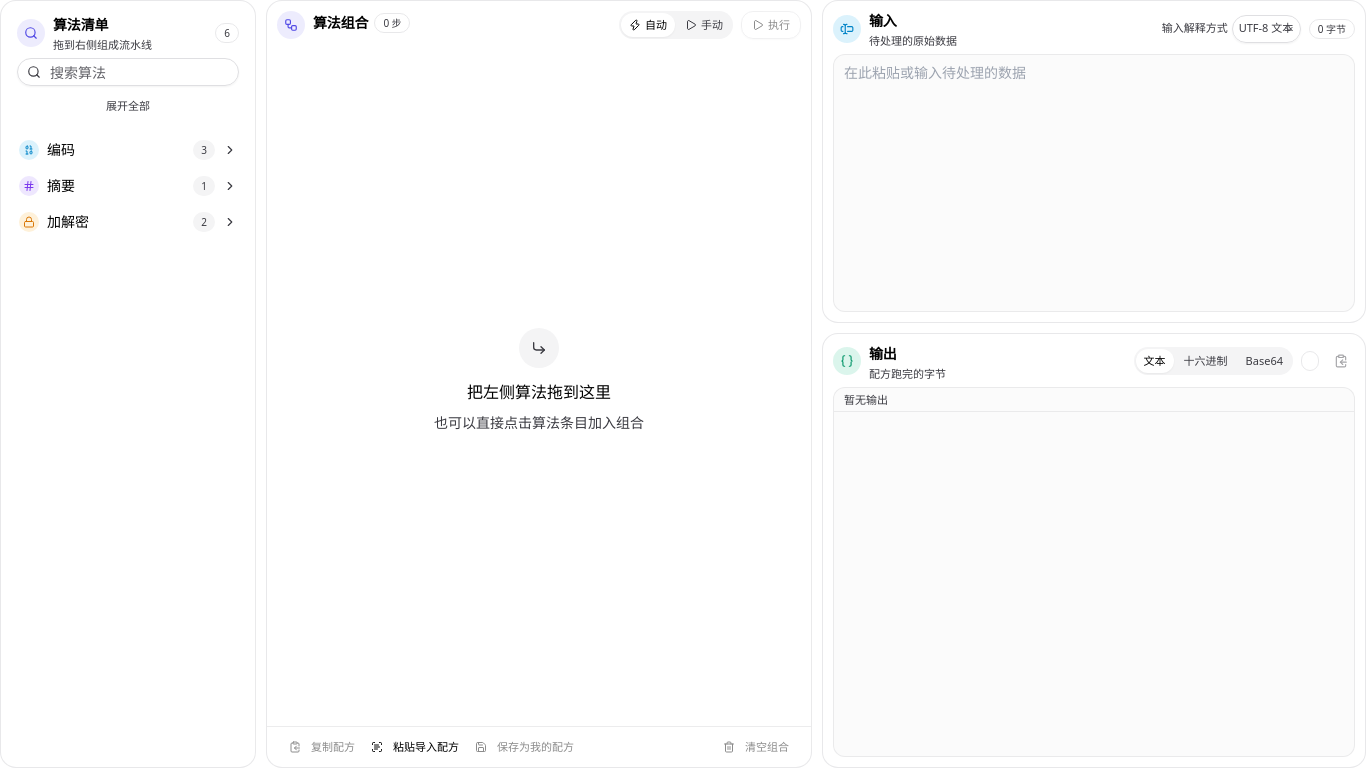
配方编排 › 点条目本体就进配方；点行尾加号也进，而且一次点击只加一步
Click the button "展开全部".
click(128, 106)  # box [17,94,239,118]
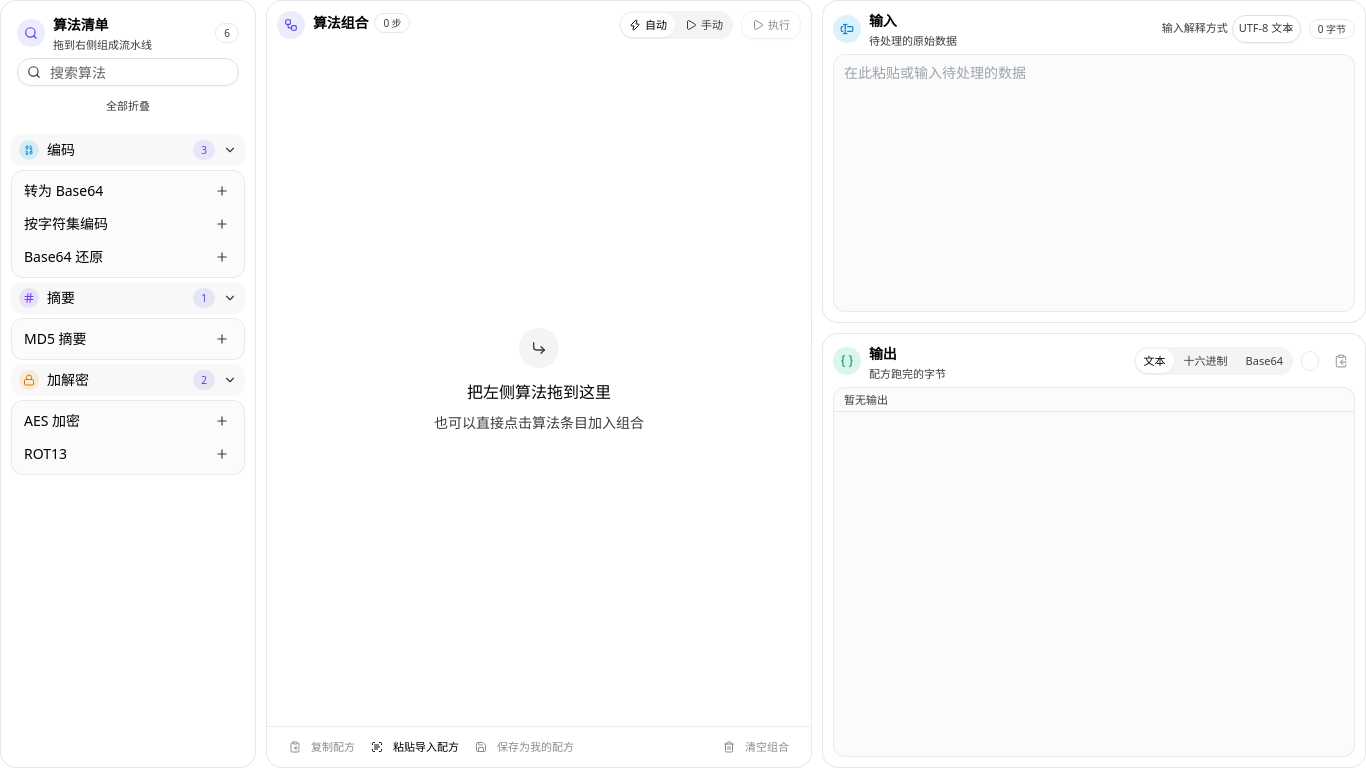
Click the text "转为 Base64".
click(64, 190)  # box [24,181,103,200]
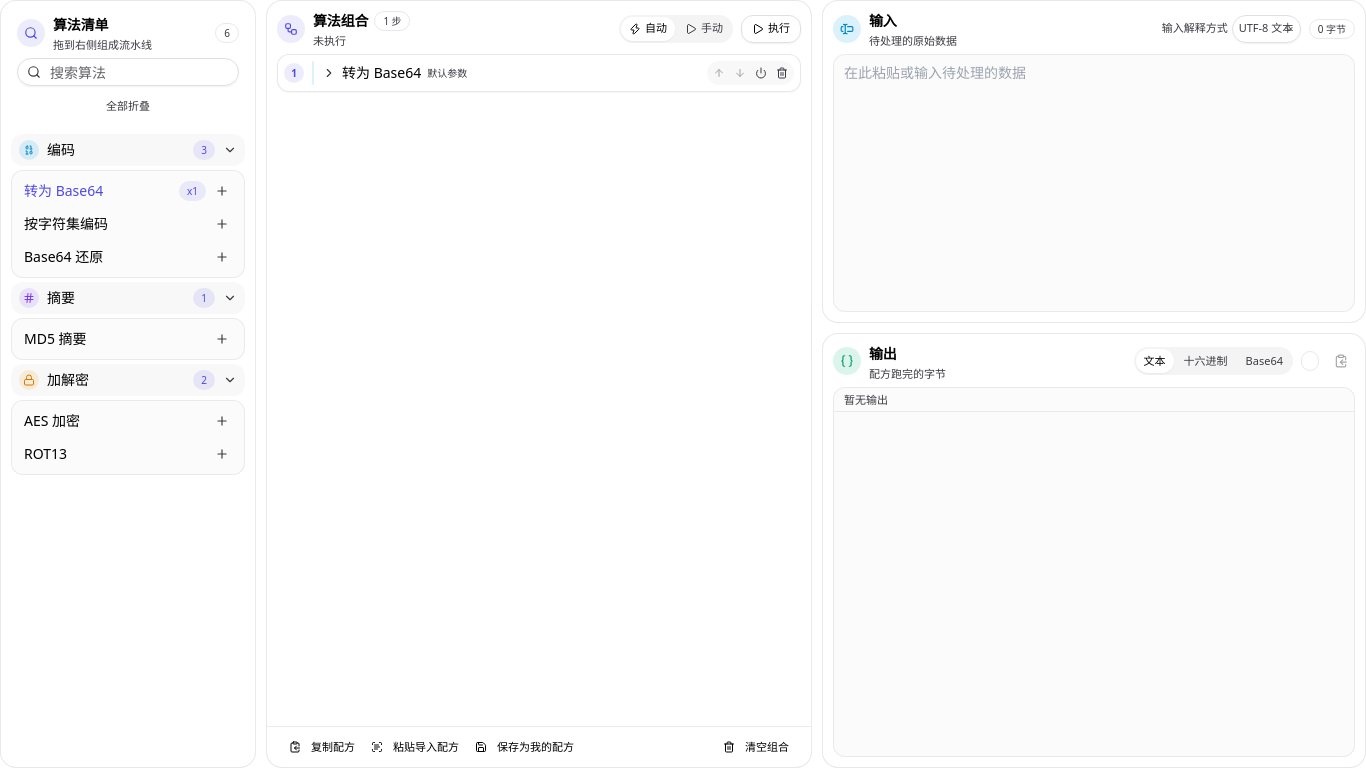
Check: the number of list items with test id "chef-step" is 1, box [277,54,801,92]
Click the text "MD5 摘要".
click(55, 338)  # box [24,329,87,348]
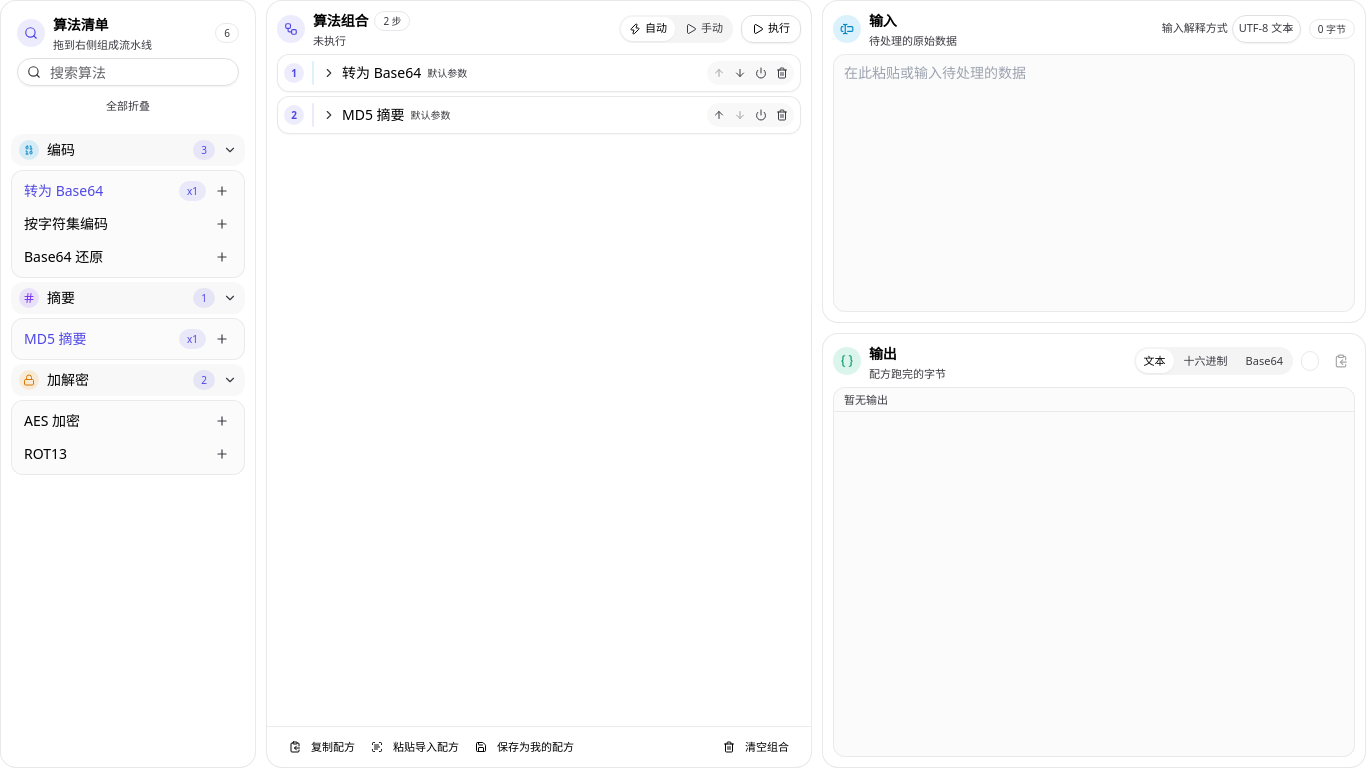
Check: the number of list items with test id "chef-step" is 2, box [277,54,801,92]; [277,96,801,134]
Check: the list item with test id "chef-step" shows "MD5", box [322,103,631,127]
Click the button named "添加 MD5 摘要".
click(222, 339)  # box [212,329,232,349]
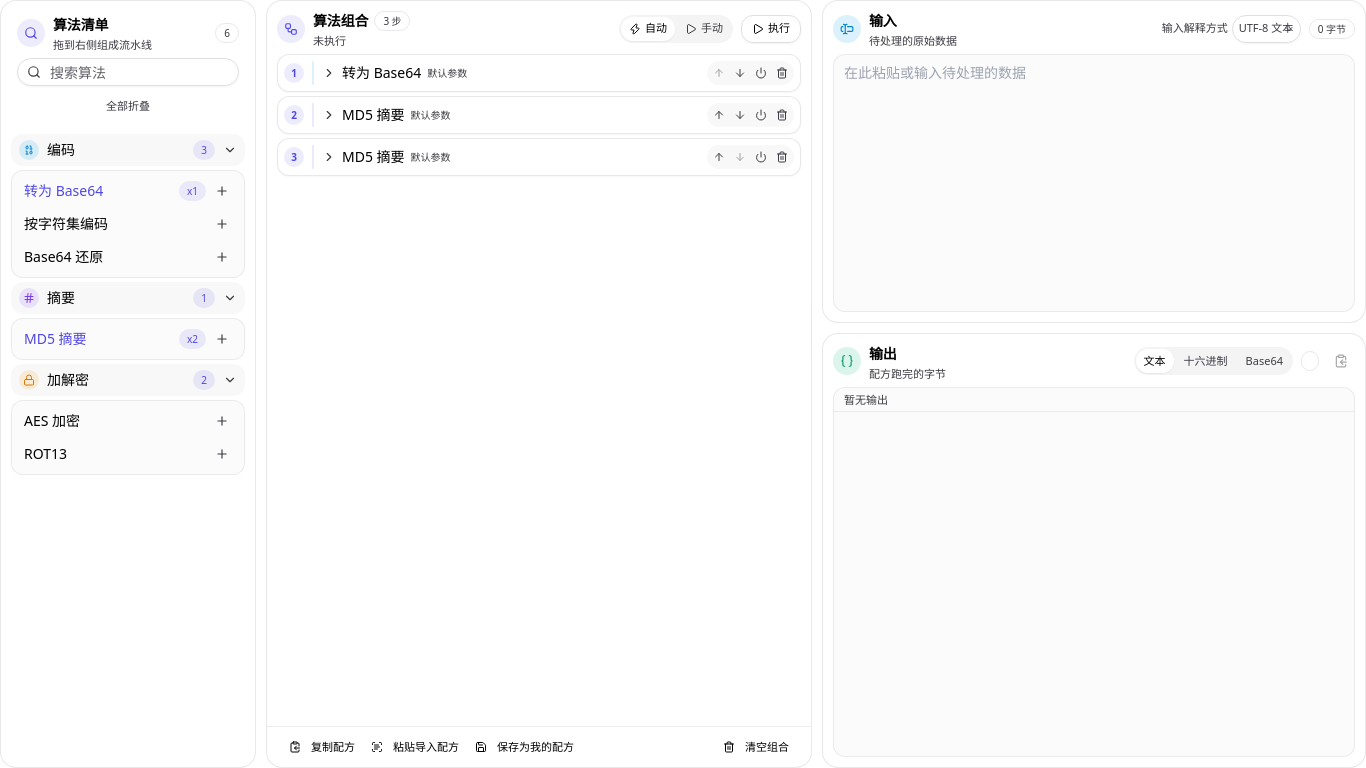
Check: the number of list items with test id "chef-step" is 3, box [277,54,801,92]; [277,96,801,134]; [277,138,801,176]
